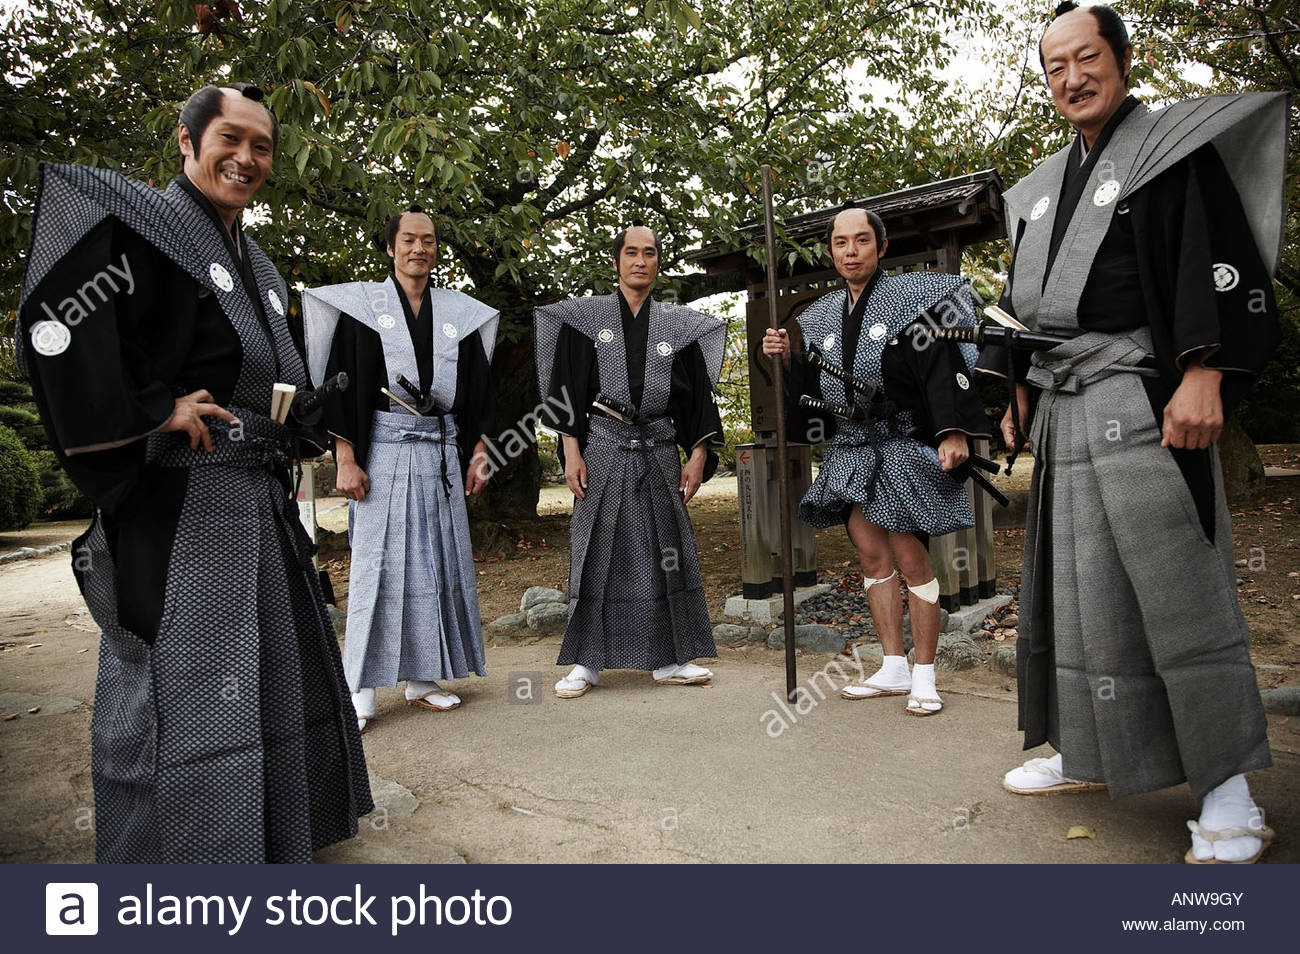bad: (195, 106, 285, 196), (1042, 38, 1116, 113), (826, 228, 878, 280), (616, 242, 660, 286), (395, 228, 439, 271)
